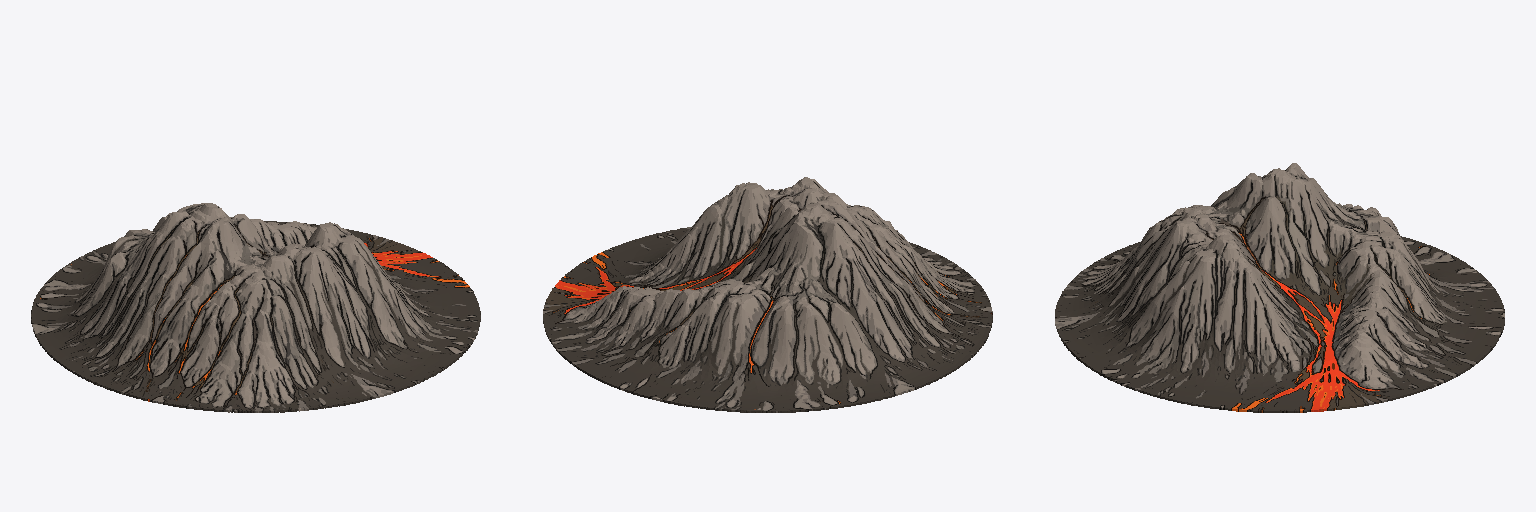
The picture shows the model from 3 angles: view 1: azimuth 30°, elevation 25°; view 2: azimuth 150°, elevation 25°; view 3: azimuth 270°, elevation 25°; orthographic projection.
Visible parts, largest first — view 1: TerrainMesh.001; view 2: TerrainMesh.001; view 3: TerrainMesh.001.
Part boxes in pixels (x1,y1,x2,y2): TerrainMesh.001: (31,203,480,412); TerrainMesh.001: (543,177,992,412); TerrainMesh.001: (1055,163,1504,412).
Size of the model in its own units: 9.84 by 3.01 by 9.84.
Materials: 1 (1 with a texture image).